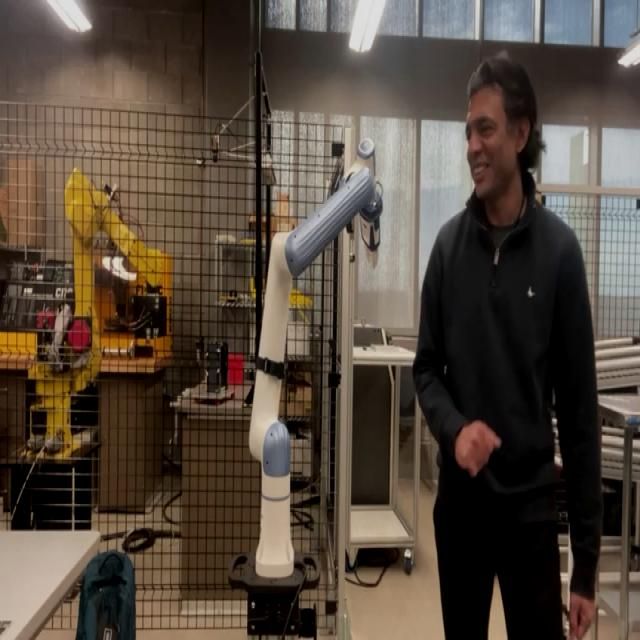robot: (228, 136, 384, 635)
